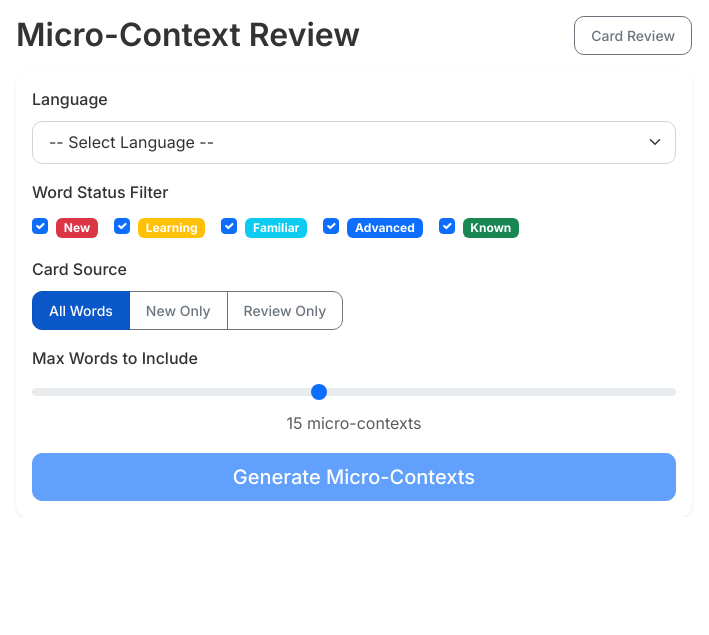
Test: SrsStoryReview (micro-contexts) › enables generate button when language is selected and loads stats
The image size is (709, 635).
Select "Spanish" in the dropdown labelled "Language" at (354, 142), box x1=32 y1=121 x2=676 y2=164
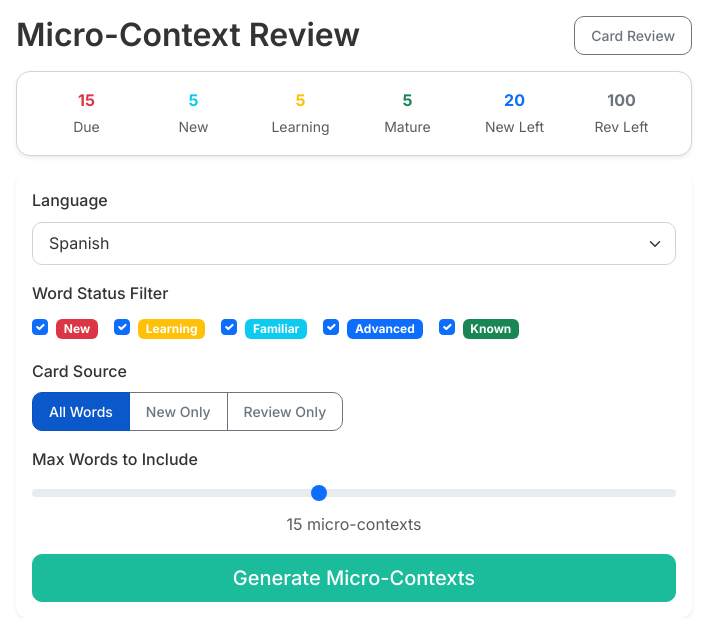
Now the text "15" is shown, box x1=78 y1=90 x2=95 y2=110
Now the button "Generate Micro-Contexts" is enabled, box x1=32 y1=554 x2=676 y2=602
